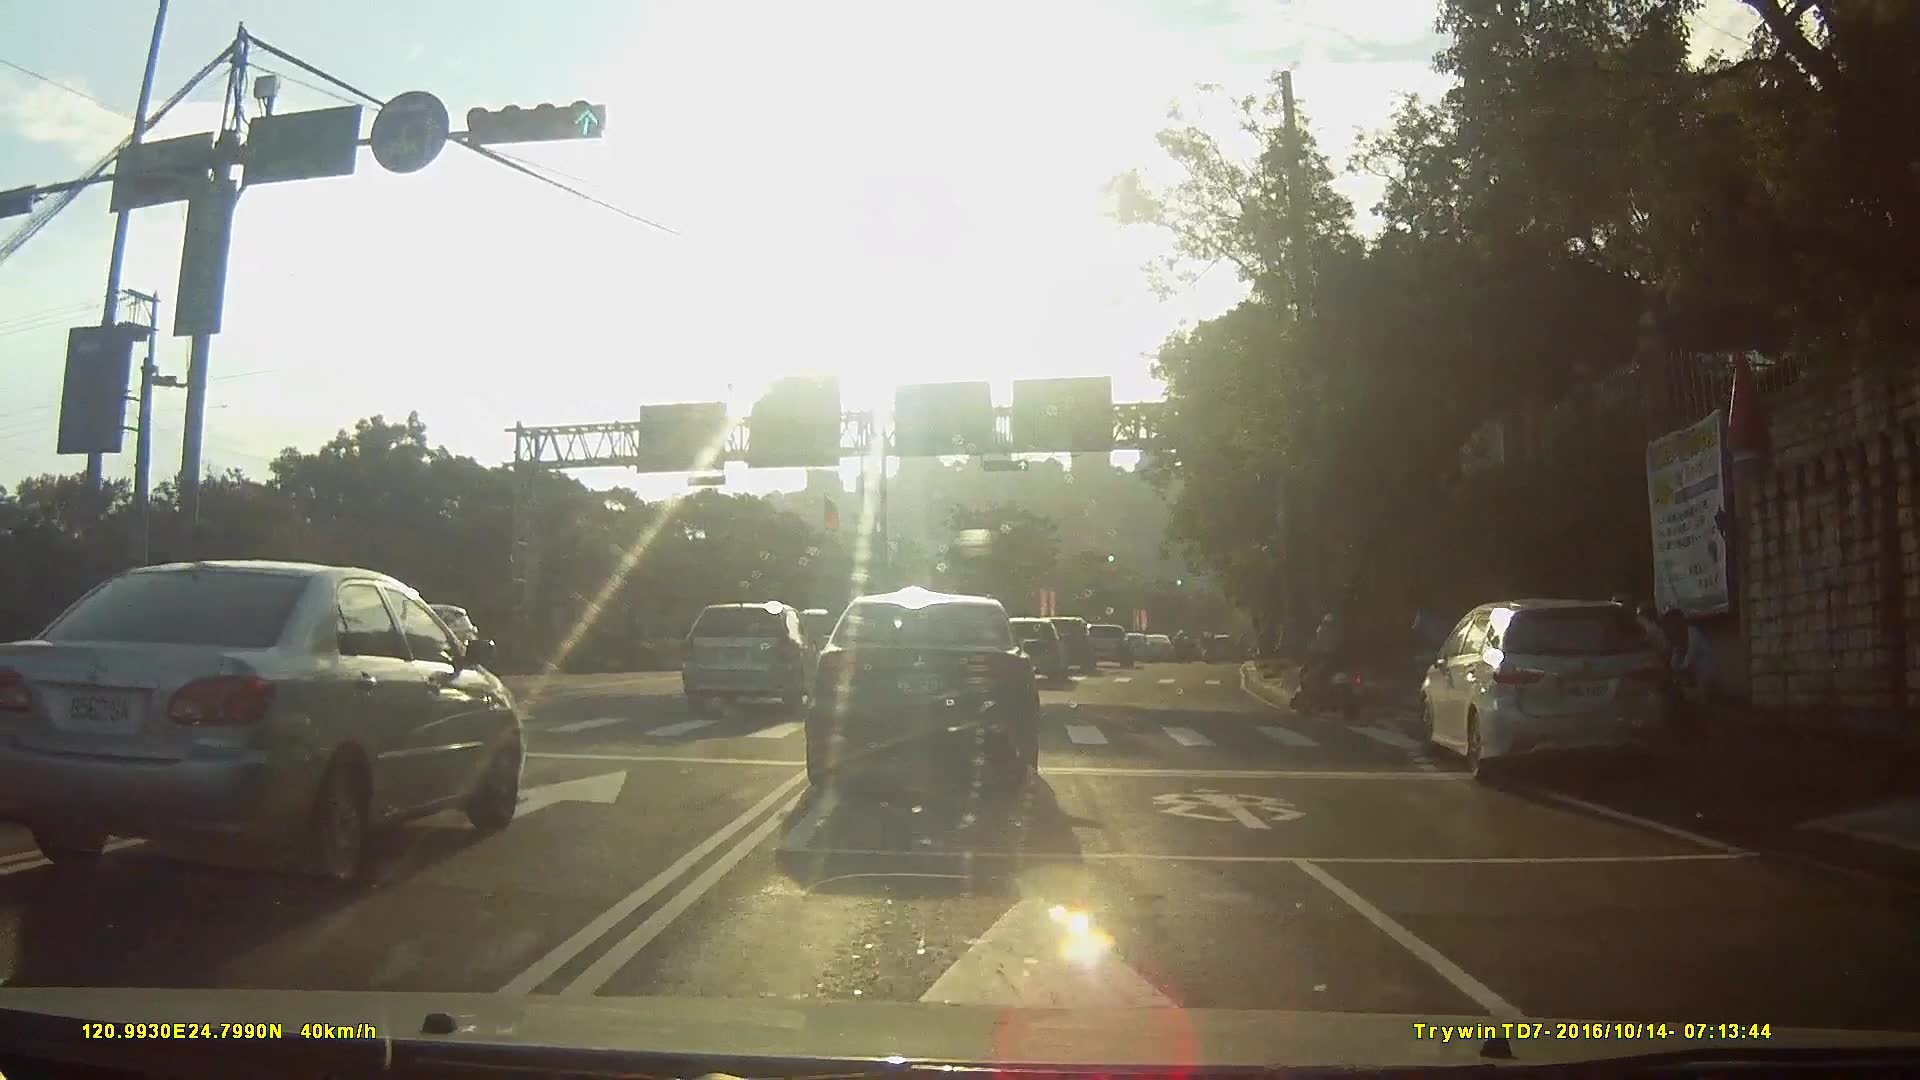pedestrian: (1664, 605, 1726, 722)
rider: (1291, 611, 1377, 718)
vehicle: (0, 563, 540, 891), (797, 596, 1065, 816), (1409, 599, 1696, 804), (111, 579, 313, 796), (694, 603, 842, 717), (1013, 620, 1087, 690), (1048, 619, 1110, 677), (1091, 626, 1145, 672), (1126, 634, 1165, 666), (1152, 638, 1185, 666)
